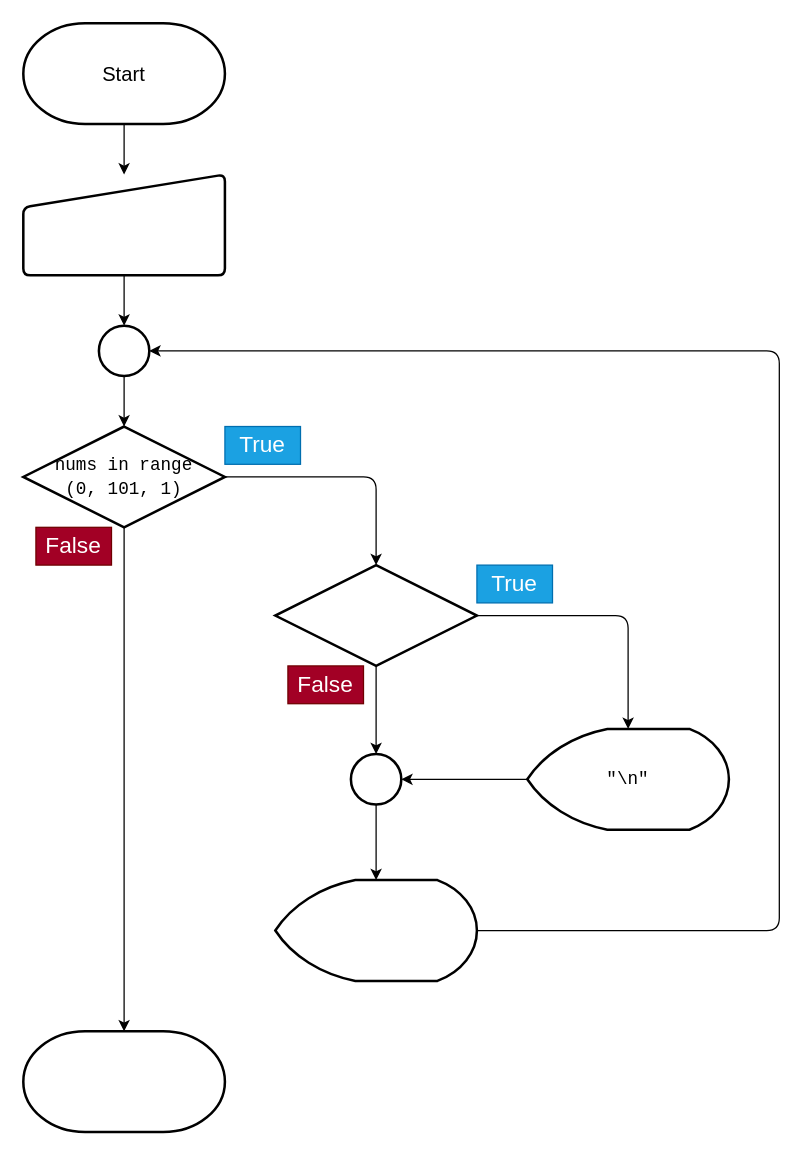
This 811x1154 diagram has some shape labels left out. The box of each missing label's shape, as (x1, y1, x2, y2) in pixels:
"Please enter your Columns : " columns: (21, 173, 226, 276)
End: (21, 1029, 226, 1133)
nums: (273, 878, 478, 982)
nums % columns == 0: (273, 563, 478, 667)
